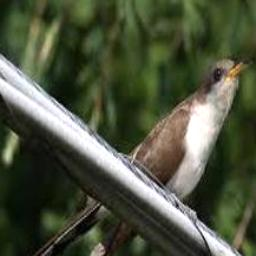Cuckoo: (13, 59, 251, 256)
